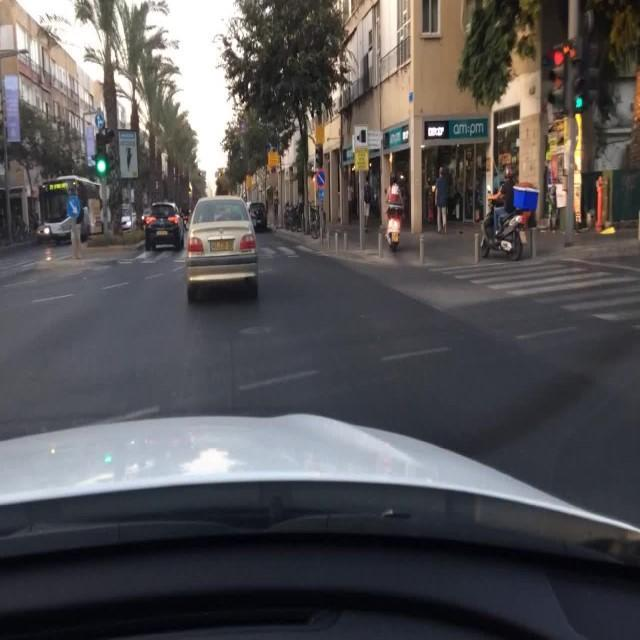normal: (178, 191, 279, 310), (465, 152, 530, 264), (369, 172, 422, 256), (135, 196, 194, 255)
